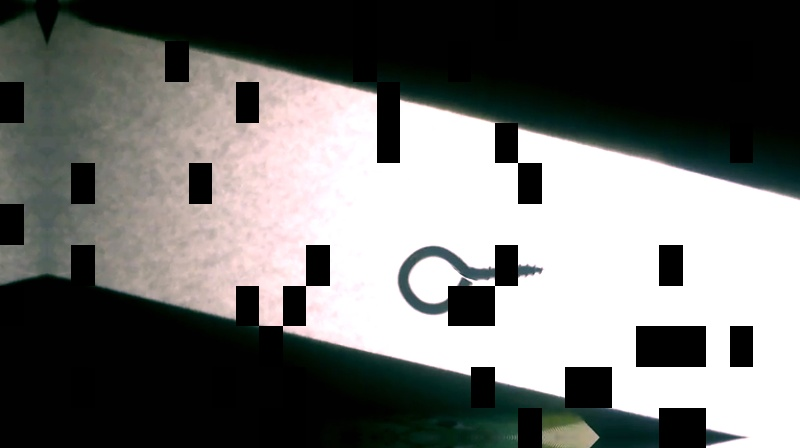O001: (393, 243, 548, 316)
